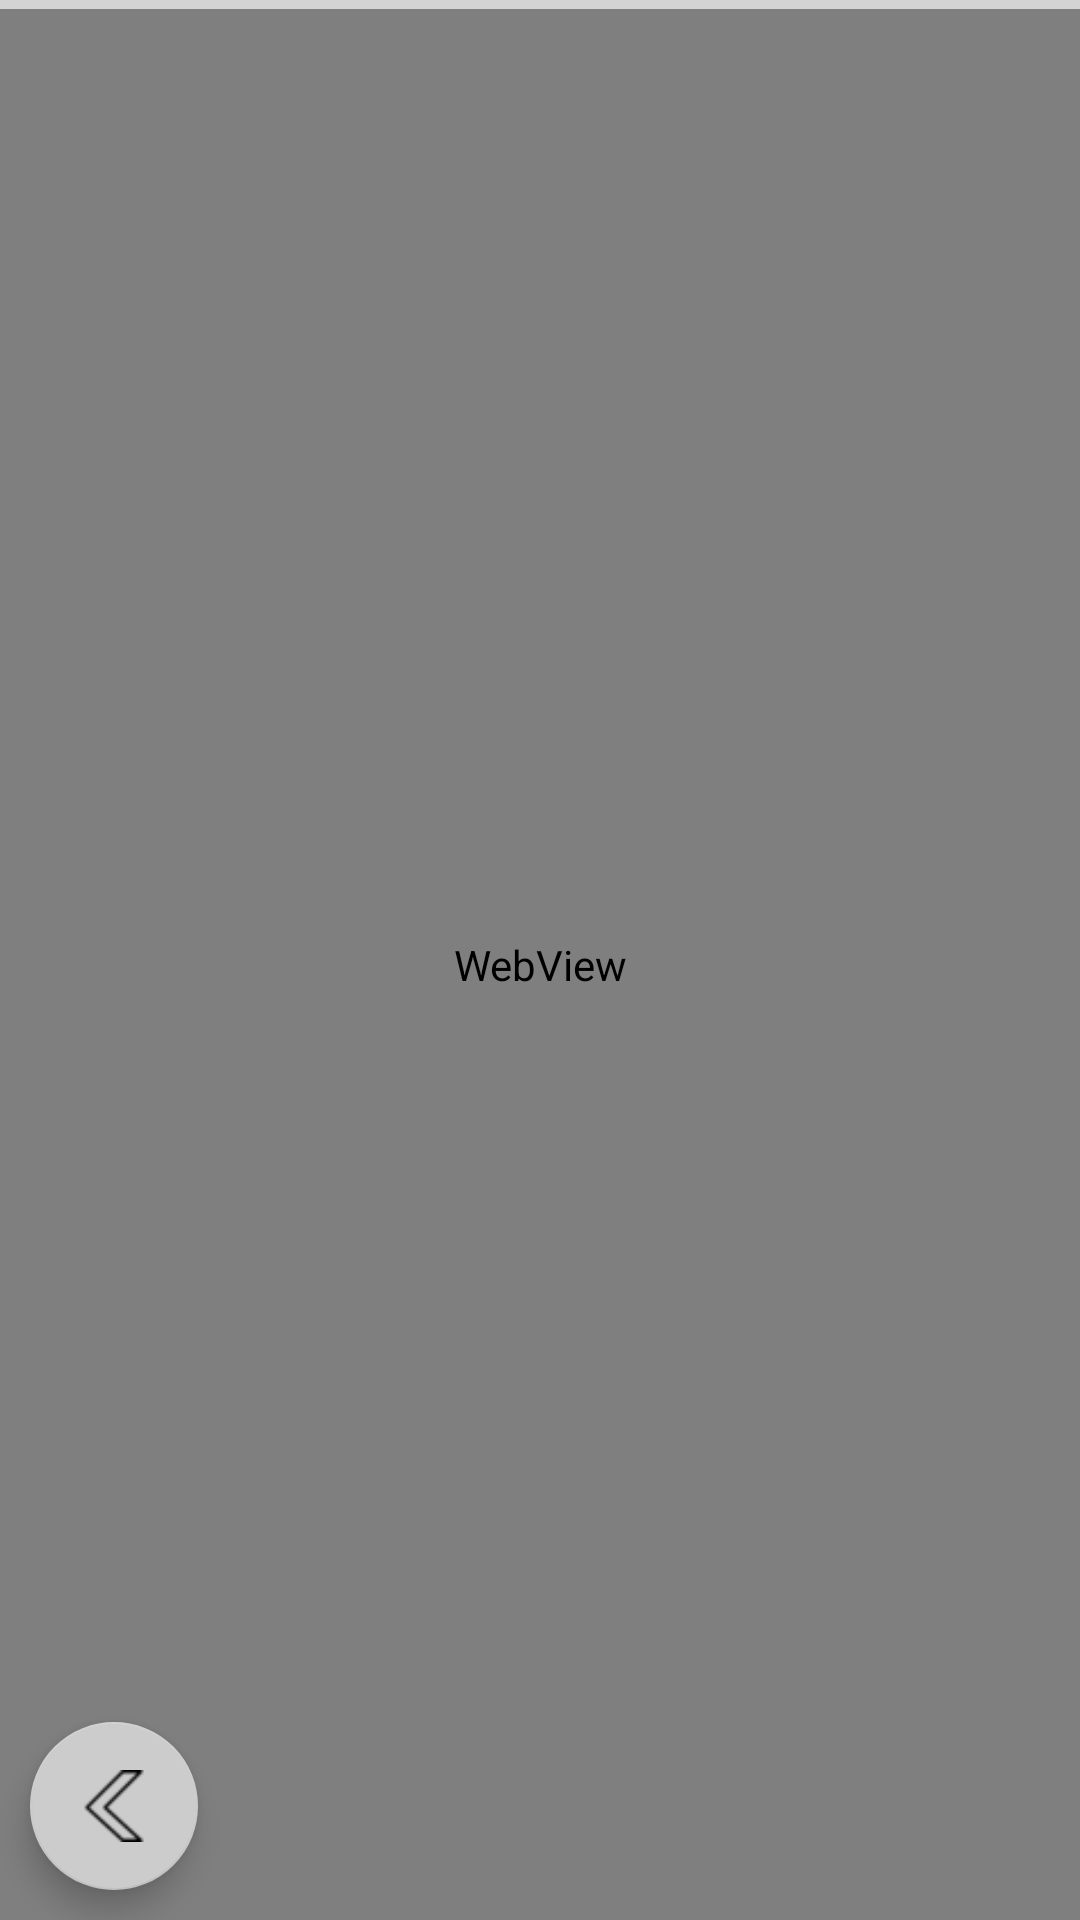

Locate icon controls on the screen. Image size 1080w x 1920h, boxes as (x1, y1, x2, y2).
back: (30, 1722, 198, 1890)
